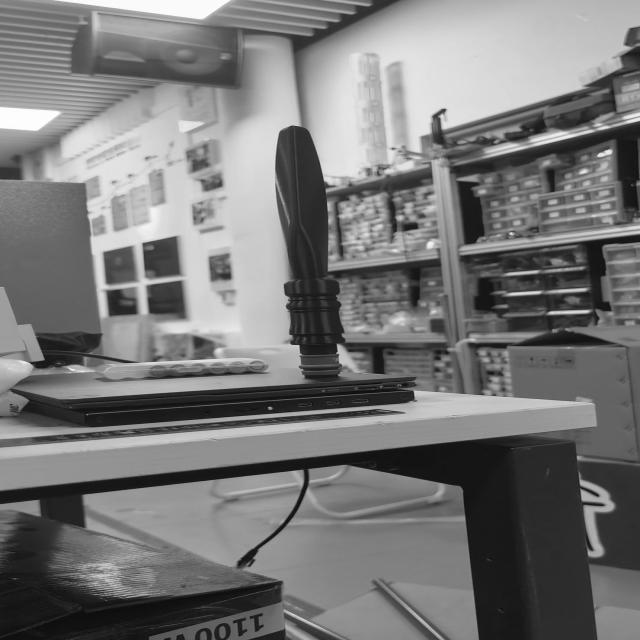base: (300, 354, 345, 379)
